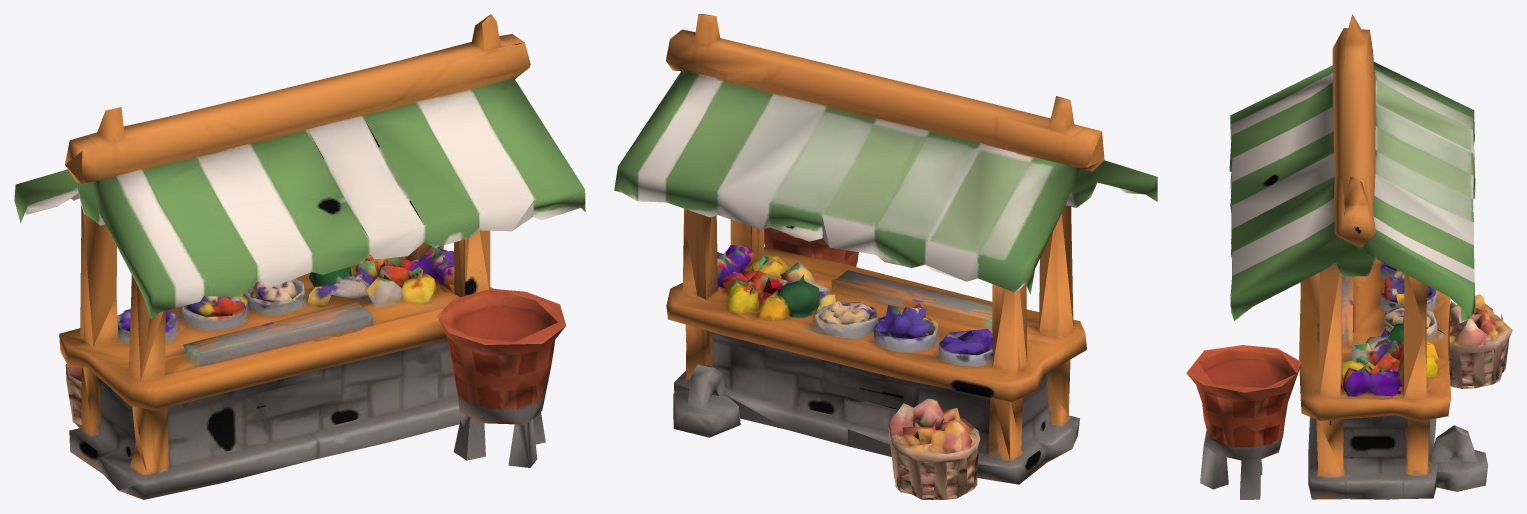
Rendered from awning_stall_1_3000.glb.
3 renders of one model, left to right at view 1: azimuth 30°, elevation 25°; view 2: azimuth 150°, elevation 25°; view 3: azimuth 270°, elevation 25°, orthographic. The views are drawn at different scales.
Visible parts, largest first — view 1: t3000; view 2: t3000; view 3: t3000.
Part boxes in pixels (x1,y1,x2,y2): t3000: (14, 14, 585, 499); t3000: (614, 14, 1157, 499); t3000: (1186, 14, 1512, 499).
Size of the model in its own units: 1.88 by 1.52 by 1.37.
1 material, 1 textured.
